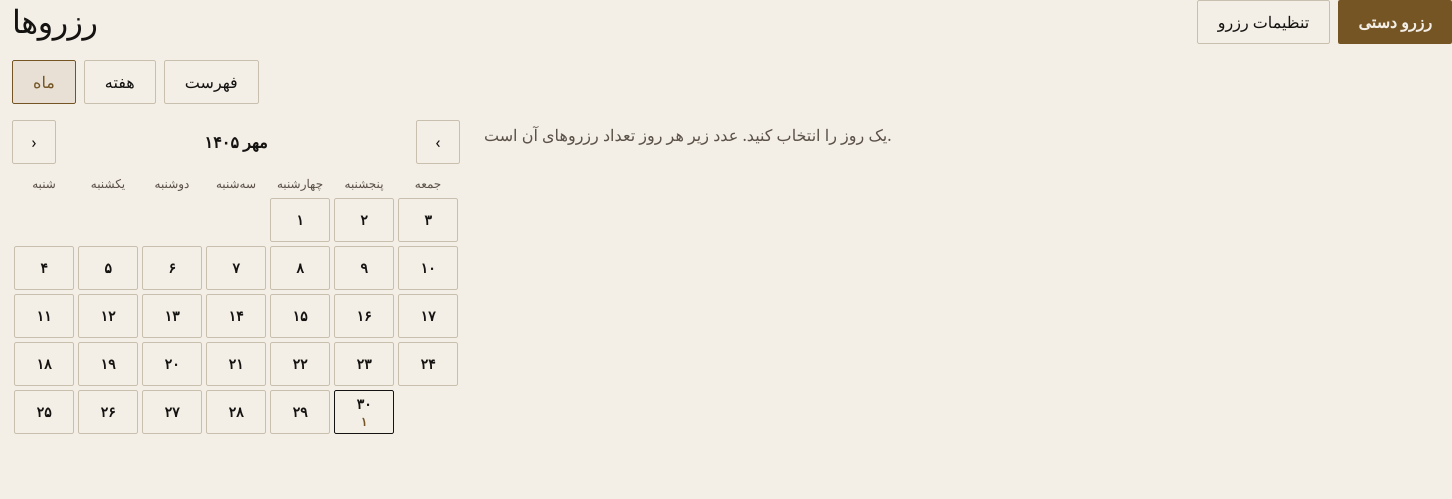
Scenario: BookingsManager › forgets the chosen day when the month changes
Check: the 2nd text "۱" is shown, box [361,414,367,430]
Click the button "۳۰ ۱".
click(364, 412)  # box [334,390,394,434]
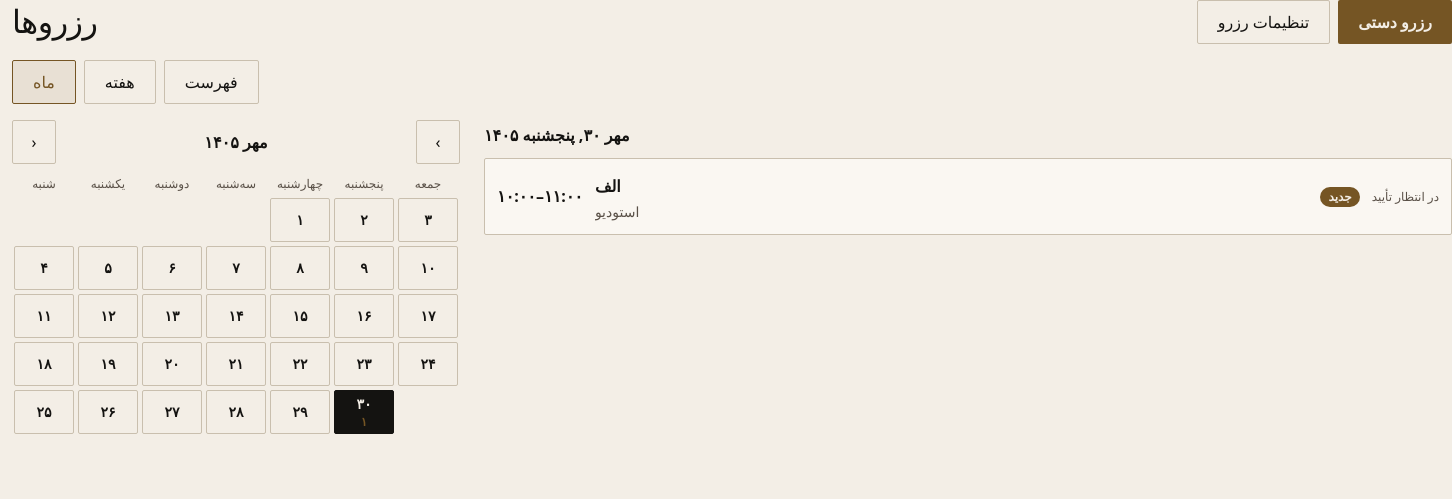
Check: the list named "رزروهای این روز" is shown, box [484,158,1451,235]
Click the button named "ماه بعد".
click(438, 142)  # box [416,120,460,164]
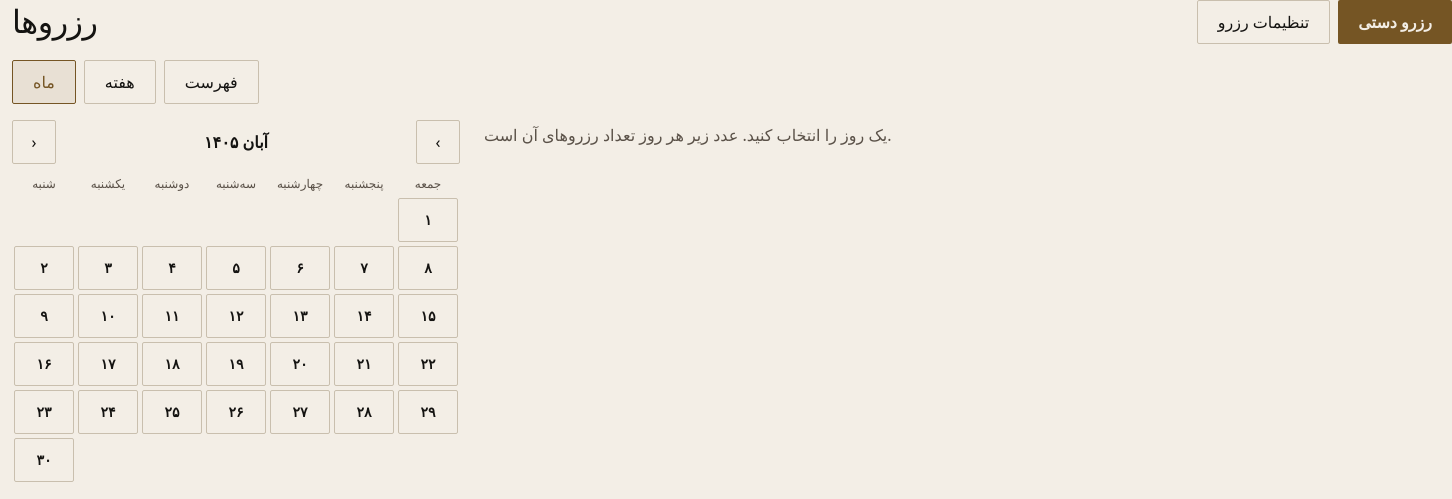
Check: the text "یک روز را انتخاب کنید. عدد زیر هر روز تعداد رزروهای آن است." is shown, box [484,124,892,146]
